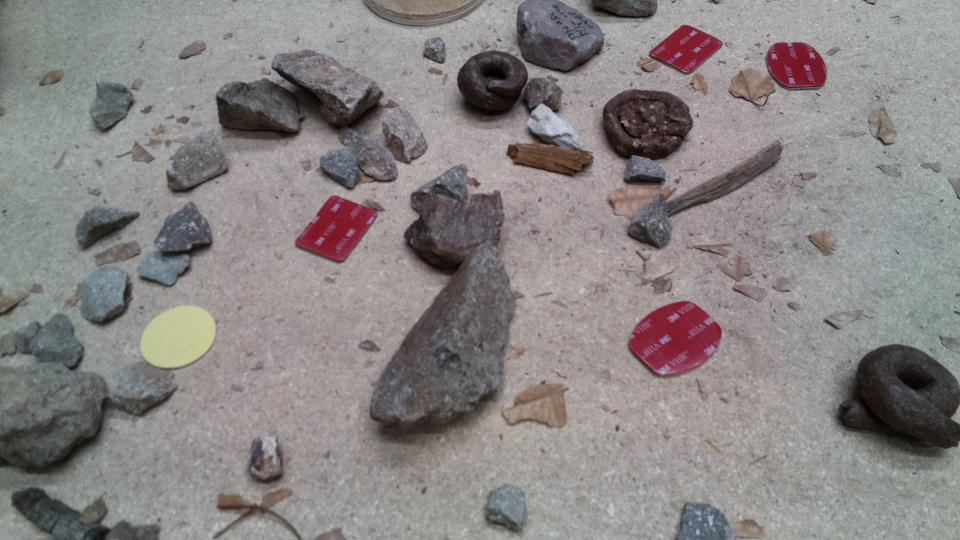poop: (836, 340, 960, 456), (601, 87, 696, 159), (455, 48, 529, 118)
